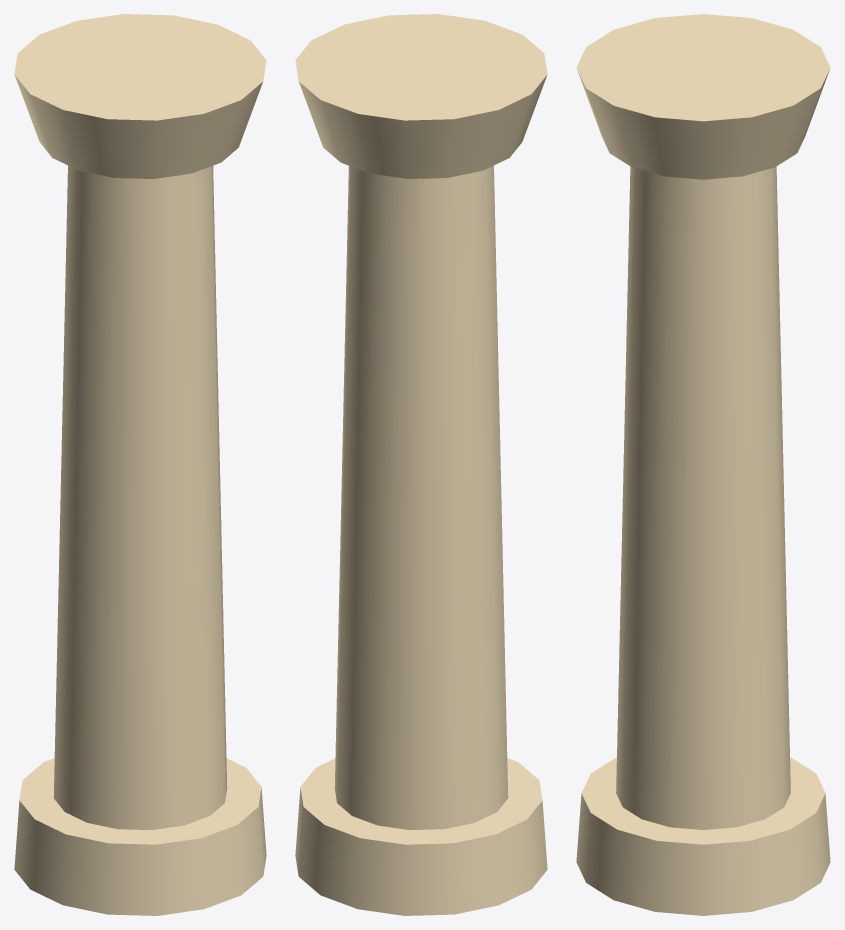
The model's file is prop-hall-pillar-1.glb.
The picture shows the model from 3 angles, left to right: view 1: azimuth 30°, elevation 25°; view 2: azimuth 150°, elevation 25°; view 3: azimuth 270°, elevation 25°; orthographic projection.
Parts seen in each view (by area): view 1: pillar; view 2: pillar; view 3: pillar.
Boxes of the visible parts, x1=… form: pillar: x1=14, y1=14, x2=266, y2=915; pillar: x1=295, y1=14, x2=547, y2=915; pillar: x1=576, y1=14, x2=830, y2=915.
Size of the model in its own units: 1 by 3.45 by 1.
